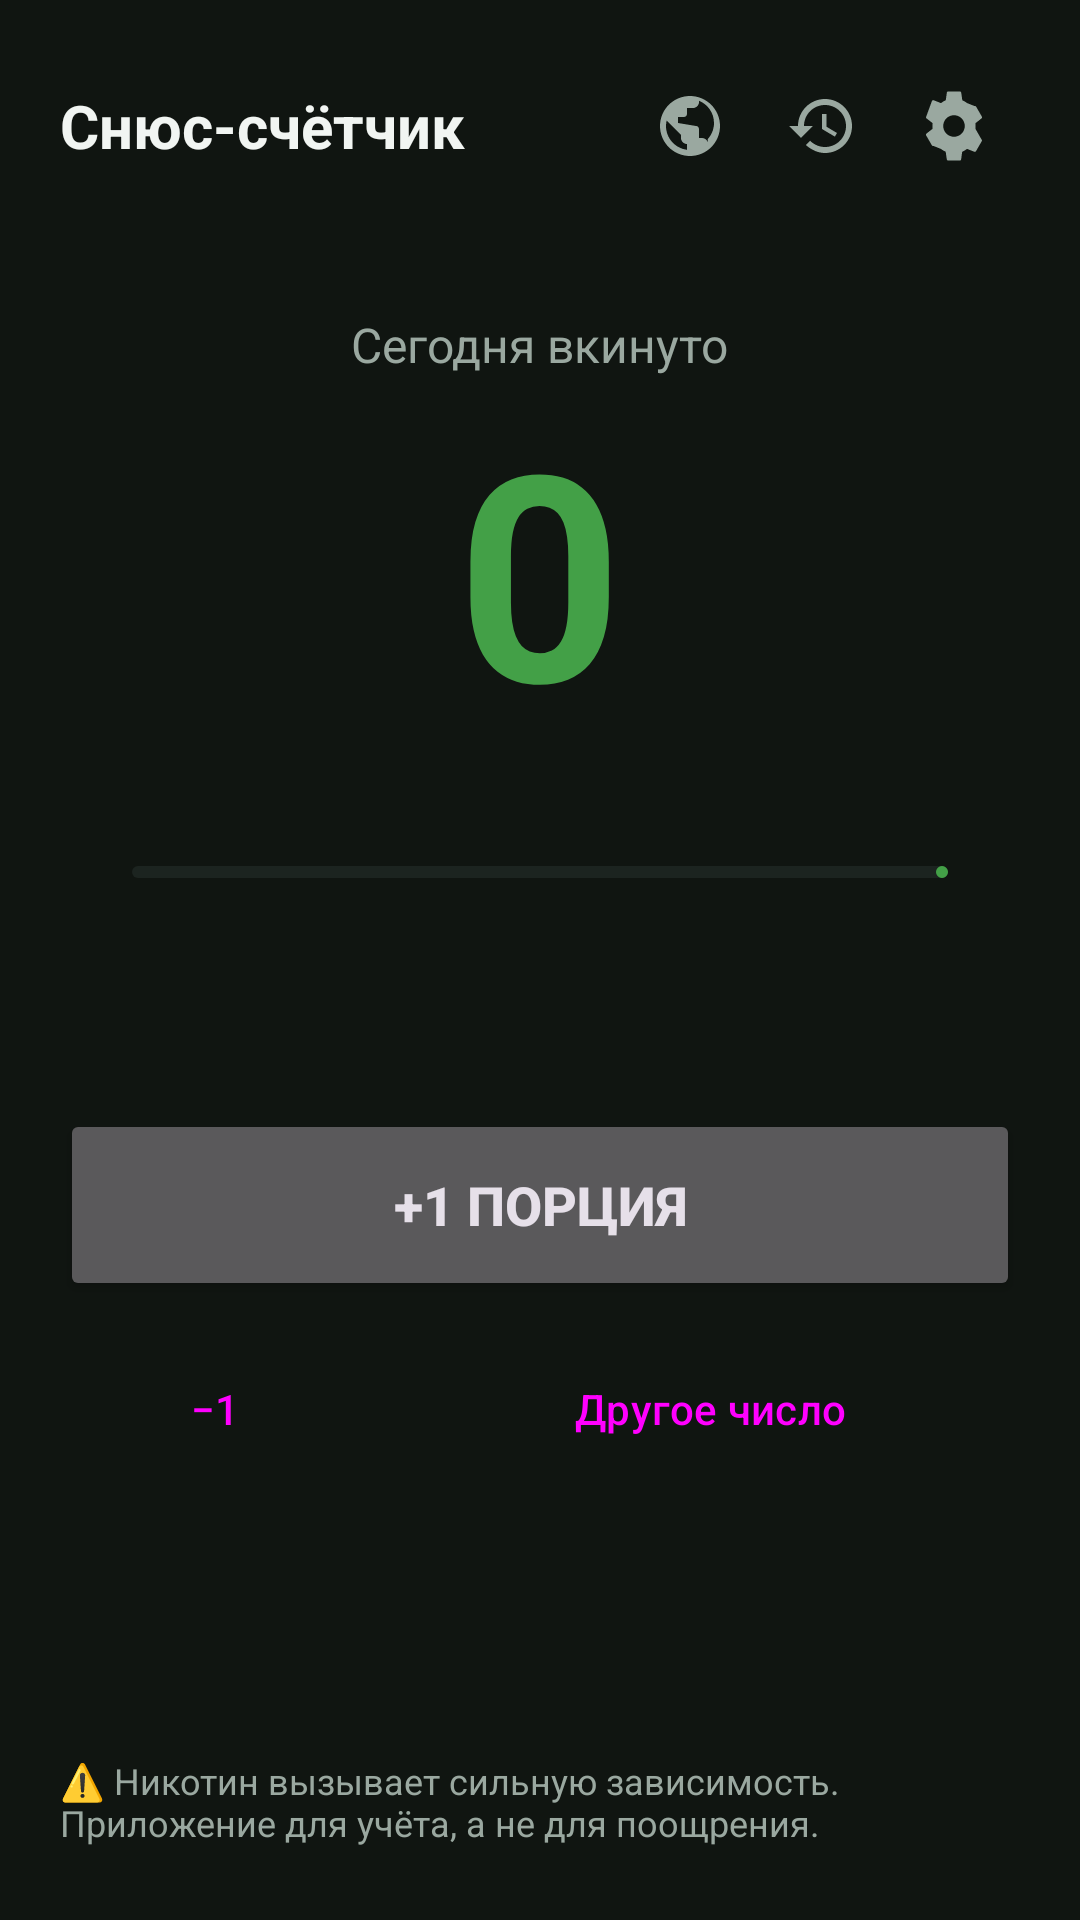

Screen size 1080w x 1920h. Icon name, then its center in pixels as (x=x, y=y):
Веб-версия: (x=690, y=126)
История: (x=820, y=126)
Настройки: (x=954, y=126)
